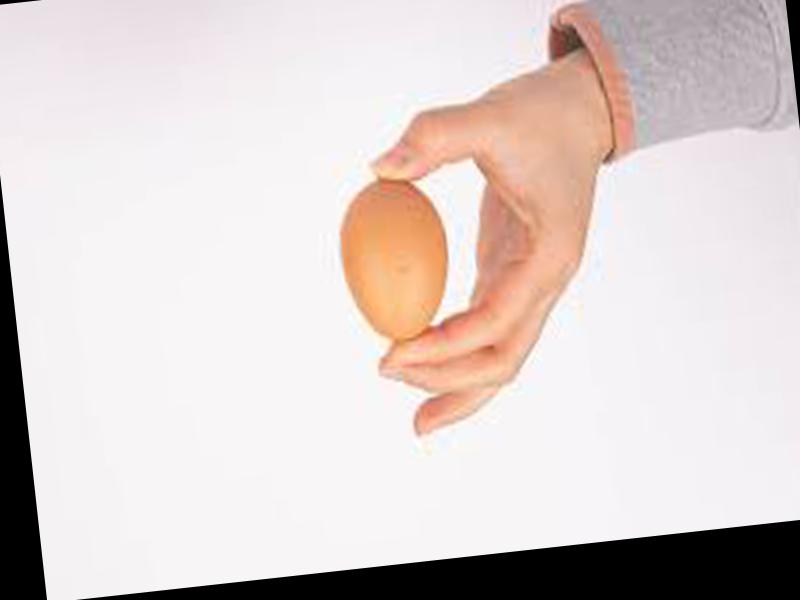Eggs: (334, 177, 454, 350)
